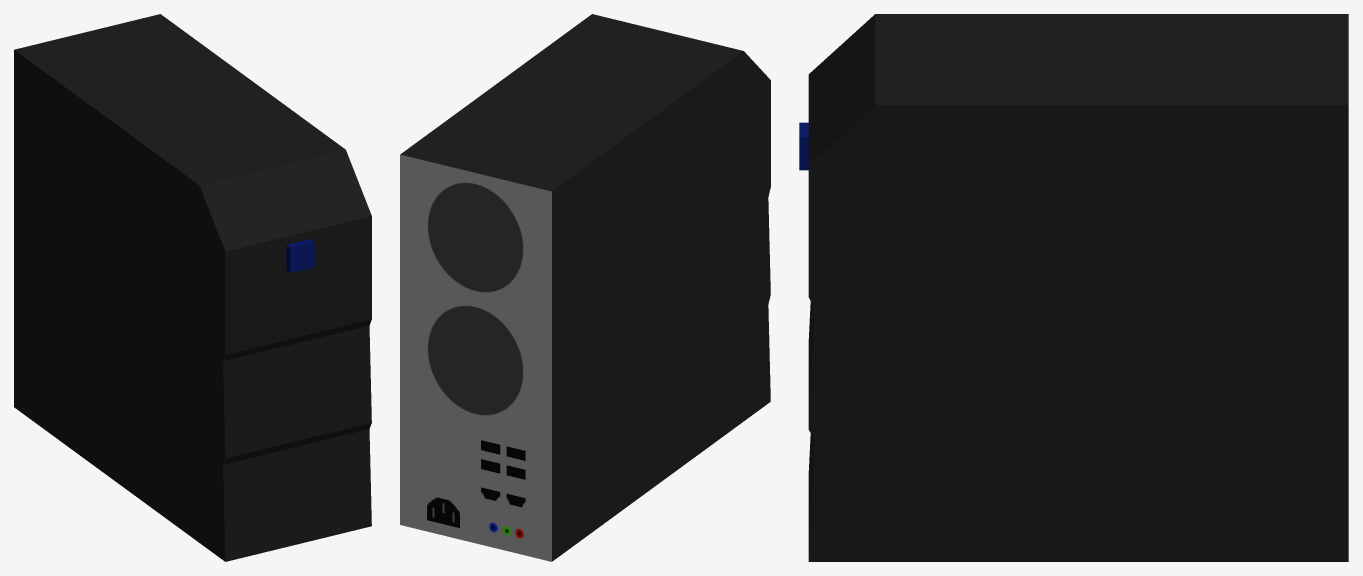
File: DesktopTower.FBX
3 renders of one model, left to right at view 1: azimuth 30°, elevation 25°; view 2: azimuth 150°, elevation 25°; view 3: azimuth 270°, elevation 25°, orthographic. The views are drawn at different scales.
Visible parts, largest first — view 1: computer; view 2: computer; view 3: computer.
Boxes of the visible parts, x1,y1,x2,y2 form: computer: [14, 14, 371, 561]; computer: [400, 14, 770, 561]; computer: [799, 14, 1348, 561].
Size of the model in its own units: 7.09 by 16.54 by 18.03.
3 materials, 1 textured.
